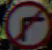Don't turn right: (6, 3, 46, 41)
